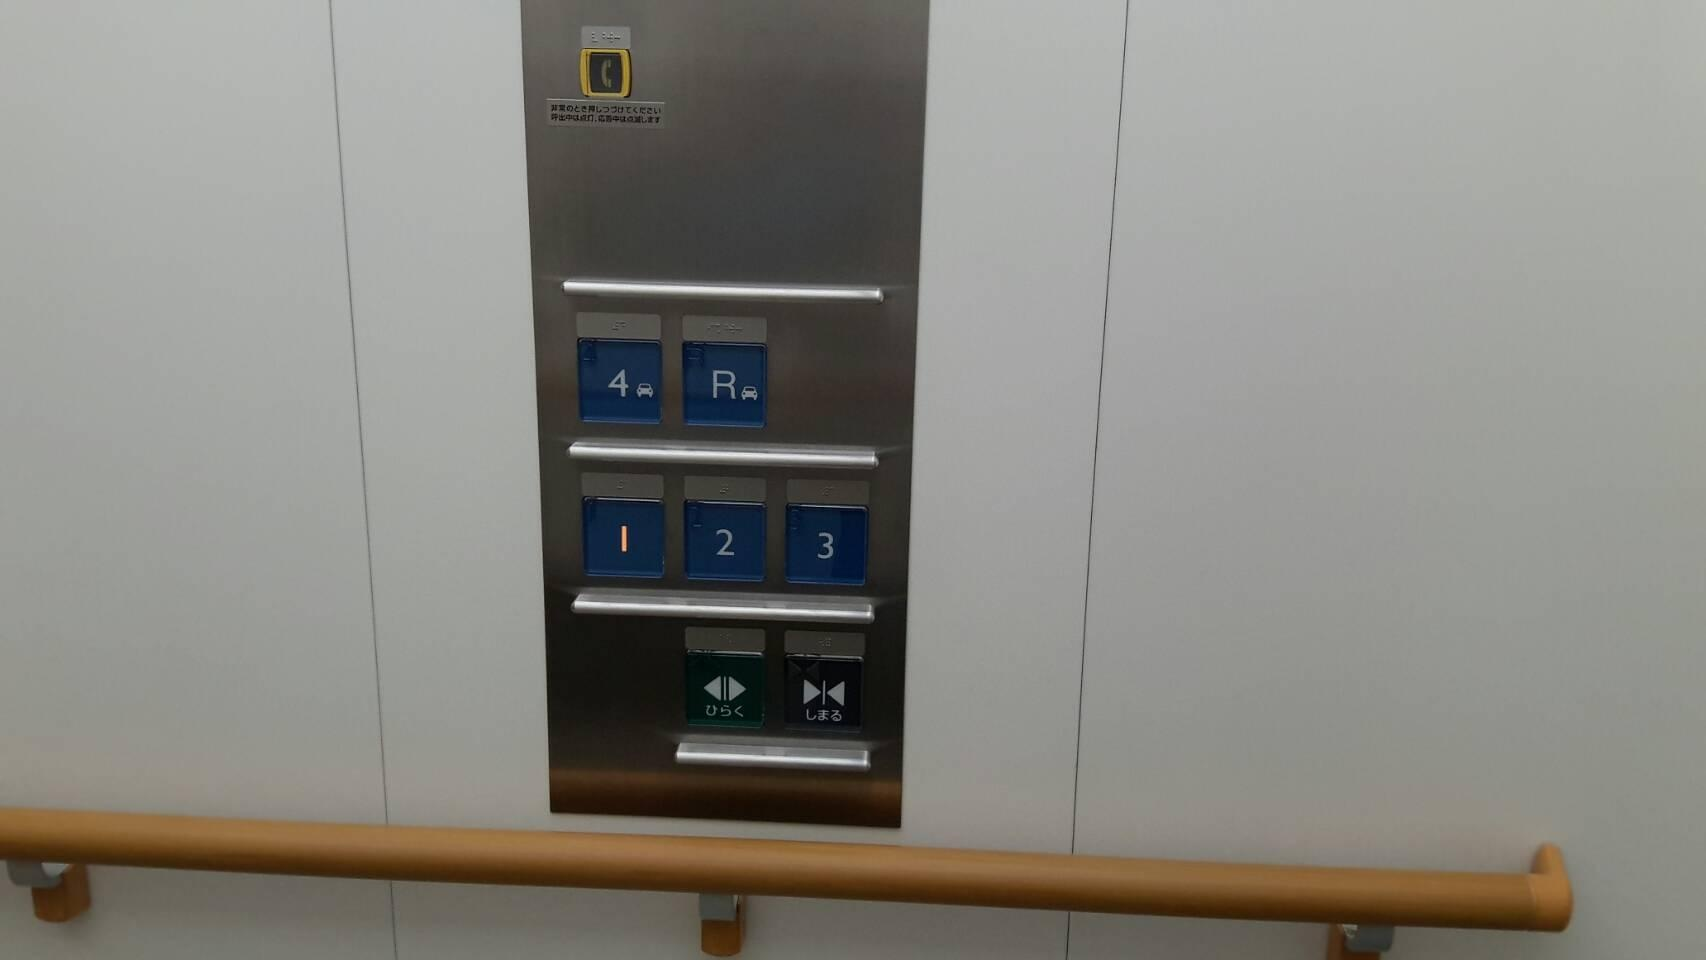1: (581, 496, 666, 581)
2: (682, 498, 767, 583)
3: (784, 502, 868, 587)
4: (575, 339, 666, 425)
R: (678, 340, 769, 430)
call: (578, 48, 632, 101)
close: (782, 652, 865, 733)
open: (683, 648, 767, 729)
